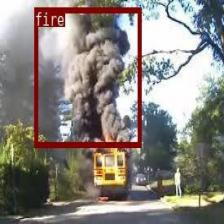fire: (34, 7, 140, 146)
